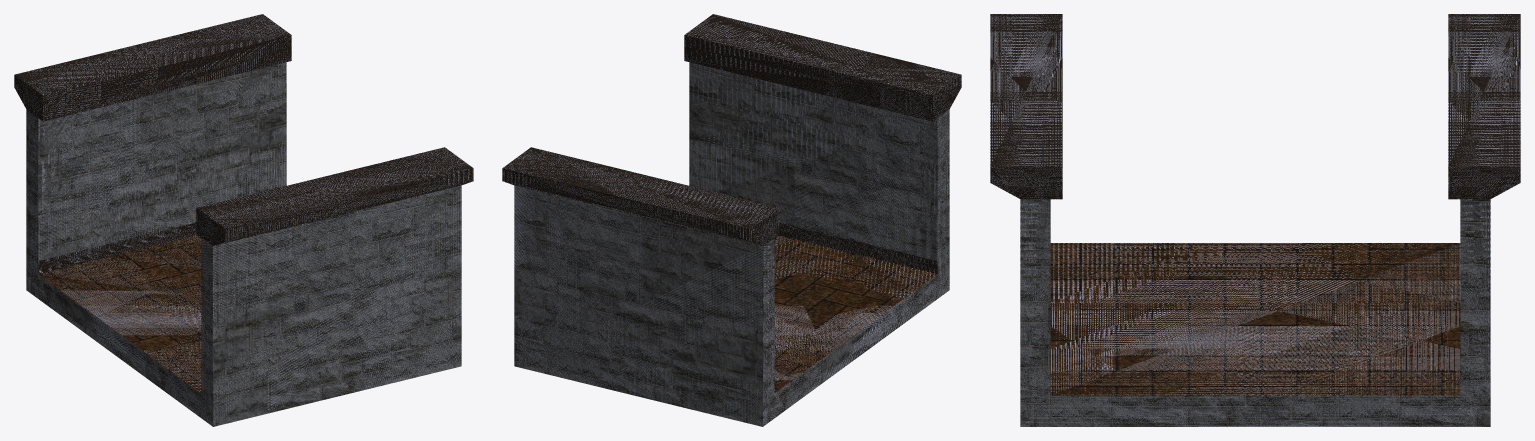
The model's file is IS_50_DPLAT.fbx.
The picture shows the model from 3 angles, left to right: view 1: azimuth 30°, elevation 25°; view 2: azimuth 150°, elevation 25°; view 3: azimuth 270°, elevation 25°; orthographic projection. The views are drawn at different scales.
Visible parts, largest first — view 1: Group4, Group3, Group2; view 2: Group4, Group3, Group2; view 3: Group2, Group4, Group3.
Boxes of the visible parts, bbox=[...] form: Group4: bbox=[26, 62, 461, 426]; Group3: bbox=[14, 14, 473, 273]; Group2: bbox=[38, 235, 201, 392]; Group4: bbox=[514, 62, 949, 426]; Group3: bbox=[502, 14, 961, 273]; Group2: bbox=[774, 235, 937, 392]; Group2: bbox=[1050, 243, 1460, 395]; Group4: bbox=[1020, 199, 1490, 426]; Group3: bbox=[990, 14, 1520, 199].
Bounding box in the file's own units: 60 × 47.75 × 88.12.
